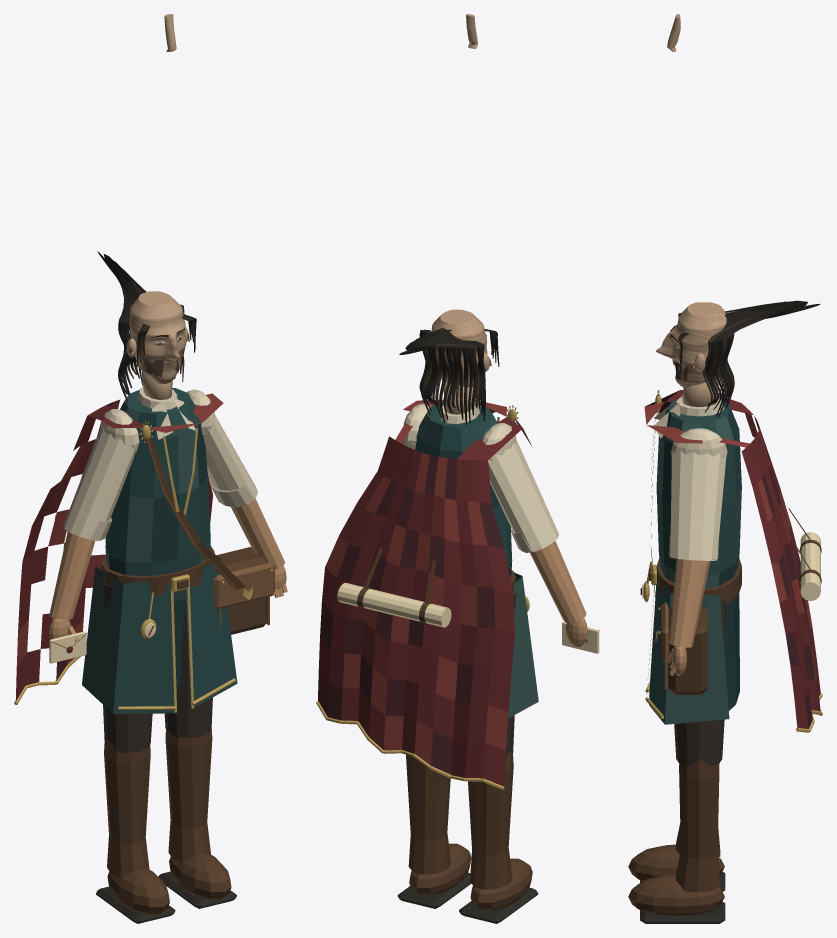
The model's file is courier.glb.
3 renders of one model, left to right at view 1: azimuth 30°, elevation 25°; view 2: azimuth 150°, elevation 25°; view 3: azimuth 270°, elevation 25°, orthographic.
Parts seen in each view (by area): view 1: Waistcoat, Split_coat_R, Cloak_folds, Boot_shaft_R, Boot_shaft_L, Split_coat_L, Linen_sleeve_R, Face, Forearm_R, Trouser_thigh_L, Linen_sleeve_L, Boot_toe_L (+13 smaller); view 2: Cloak_folds, Boot_shaft_R, Boot_shaft_L, Linen_sleeve_R, Waistcoat, Split_coat_R, Map_roll, Forearm_R, Boot_toe_L, Boot_toe_R, Face, Boot_sole_R (+2 smaller); view 3: Cloak_folds, Waistcoat, Linen_sleeve_L, Boot_shaft_L, Split_coat_L, Face, Boot_toe_L, Forearm_L, Trouser_thigh_L, Messenger_satchel, Back_coat, Boot_toe_R (+8 smaller).
Part boxes in pixels (box(x1,y1,x2,y2)): Waistcoat: box(105, 388, 210, 601); Split_coat_R: box(82, 566, 174, 713); Cloak_folds: box(15, 393, 223, 701); Boot_shaft_R: box(104, 738, 150, 877); Boot_shaft_L: box(165, 726, 212, 862); Split_coat_L: box(185, 554, 237, 709); Linen_sleeve_R: box(63, 426, 137, 540); Face: box(129, 291, 186, 383); Forearm_R: box(49, 531, 95, 619); Trouser_thigh_L: box(164, 599, 212, 738); Linen_sleeve_L: box(203, 415, 257, 506); Boot_toe_L: box(169, 853, 231, 900); Cloak_folds: box(318, 399, 531, 786); Boot_shaft_R: box(468, 751, 513, 889); Boot_shaft_L: box(406, 754, 451, 874); Linen_sleeve_R: box(488, 439, 559, 552); Waistcoat: box(415, 402, 512, 577); Split_coat_R: box(508, 572, 538, 718); Map_roll: box(337, 582, 451, 627); Forearm_R: box(530, 540, 586, 622); Boot_toe_L: box(409, 843, 471, 895); Boot_toe_R: box(470, 858, 532, 910); Face: box(431, 309, 487, 387); Boot_sole_R: box(459, 887, 538, 923); Cloak_folds: box(644, 390, 820, 729); Waistcoat: box(656, 396, 741, 588); Linen_sleeve_L: box(670, 450, 726, 560); Boot_shaft_L: box(675, 759, 720, 892); Split_coat_L: box(649, 572, 729, 724); Face: box(656, 302, 726, 387); Boot_toe_L: box(628, 874, 724, 915); Forearm_L: box(669, 559, 710, 647); Trouser_thigh_L: box(674, 599, 727, 767); Messenger_satchel: box(668, 604, 707, 694); Back_coat: box(722, 593, 739, 710); Boot_toe_R: box(628, 844, 724, 881).
Size of the model in its own units: 0.7395 by 2.59 by 0.5149.
